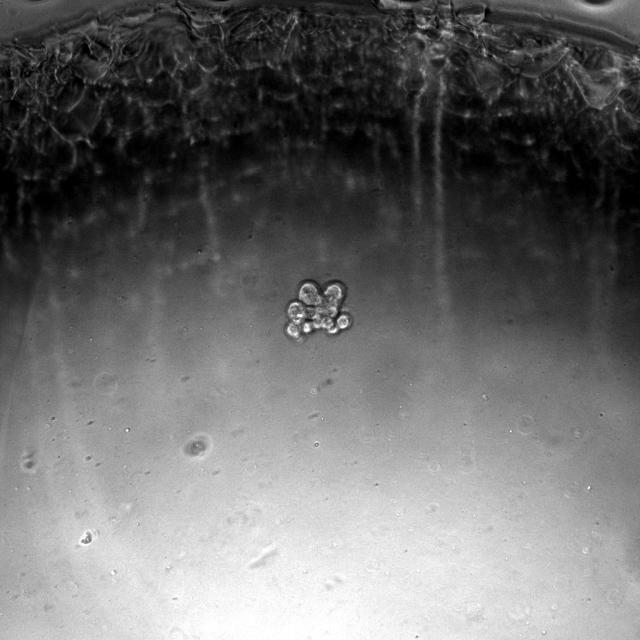organoid: (285, 280, 352, 341)
